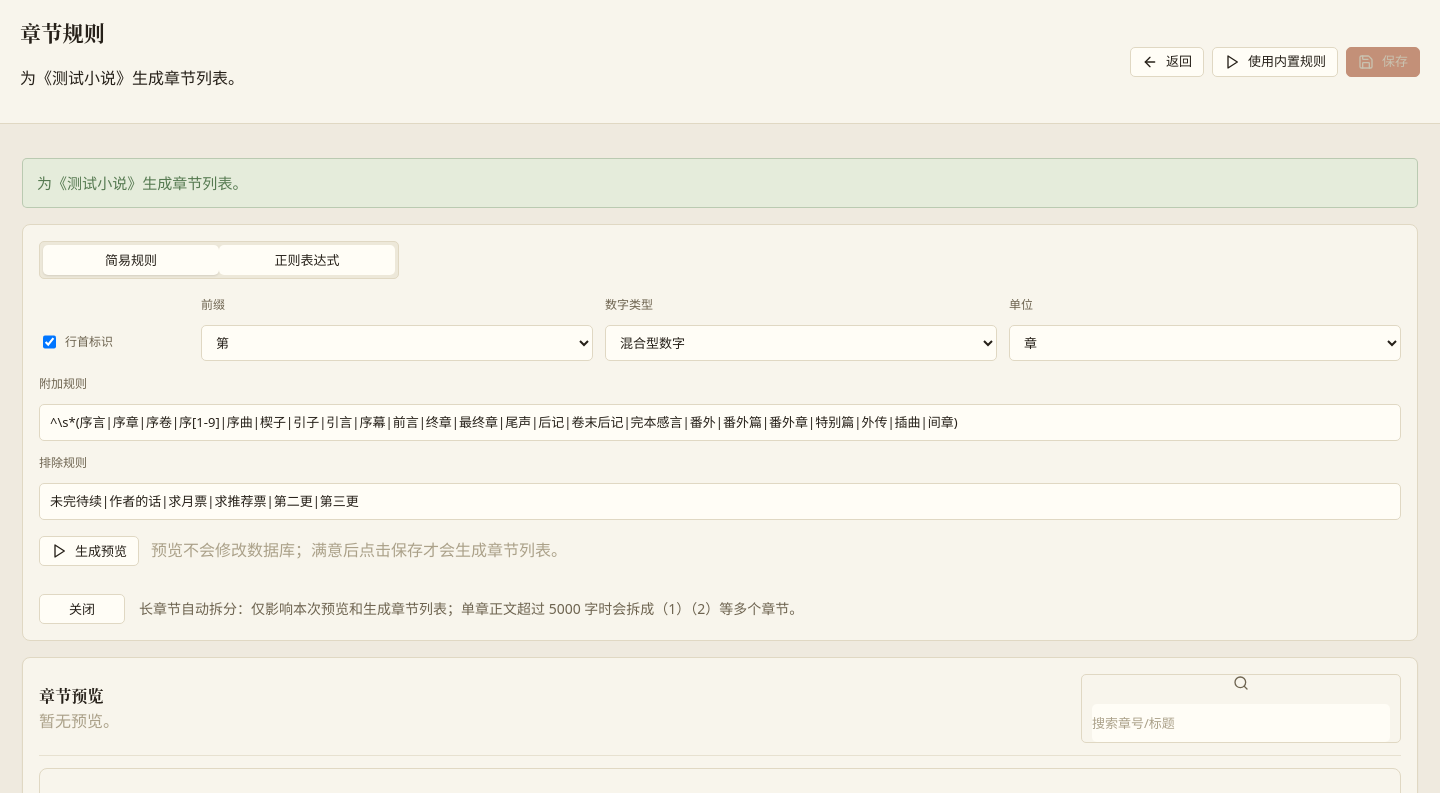
Scenario: ChapterRulesPage › enables long splitting from the prompt and regenerates preview
Click the button "生成预览" at (89, 551), box [39,536,139,566]
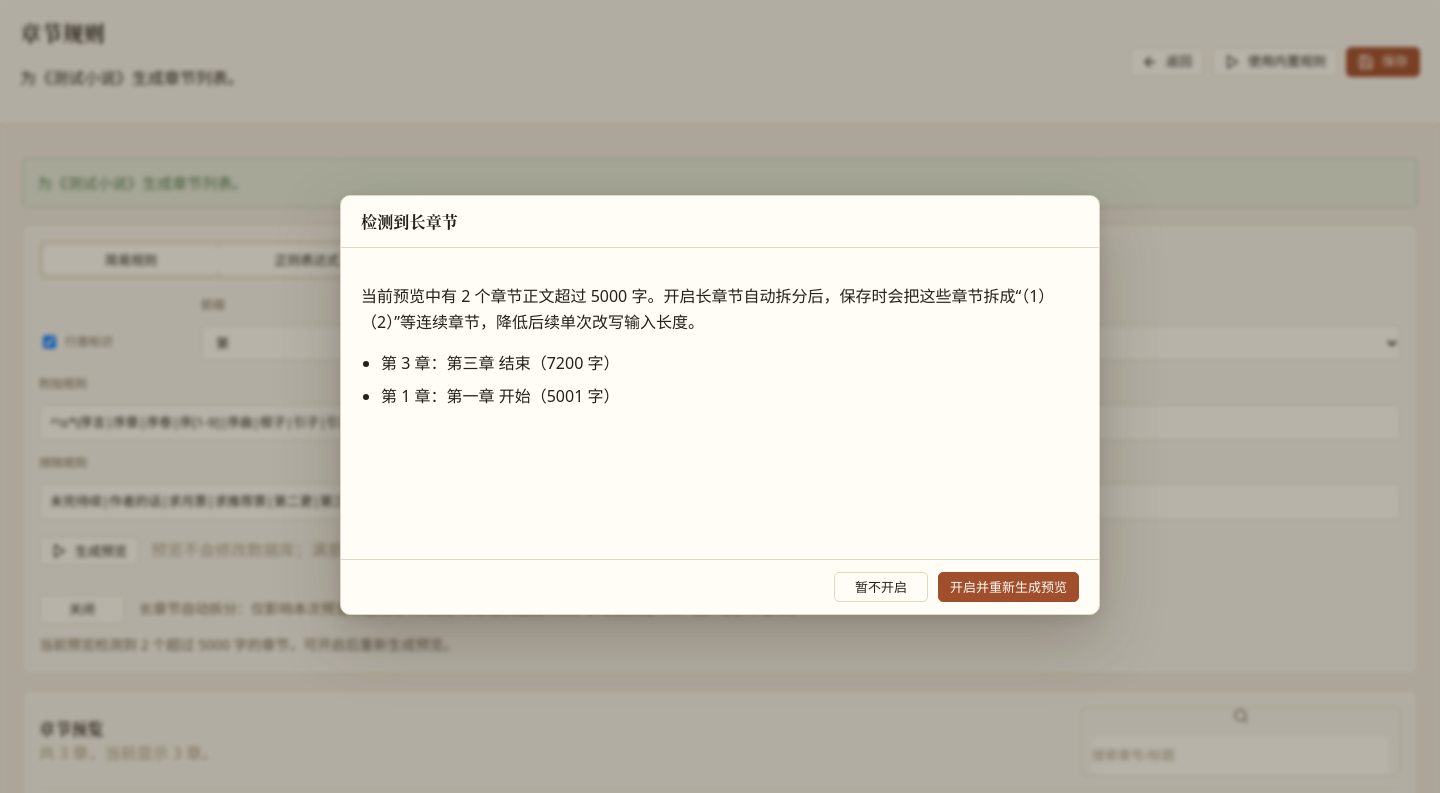
Result: the dialog "检测到长章节" is shown at [340,195,1100,615]
Click the button "开启并重新生成预览" at (1008, 587), box [938,572,1079,602]
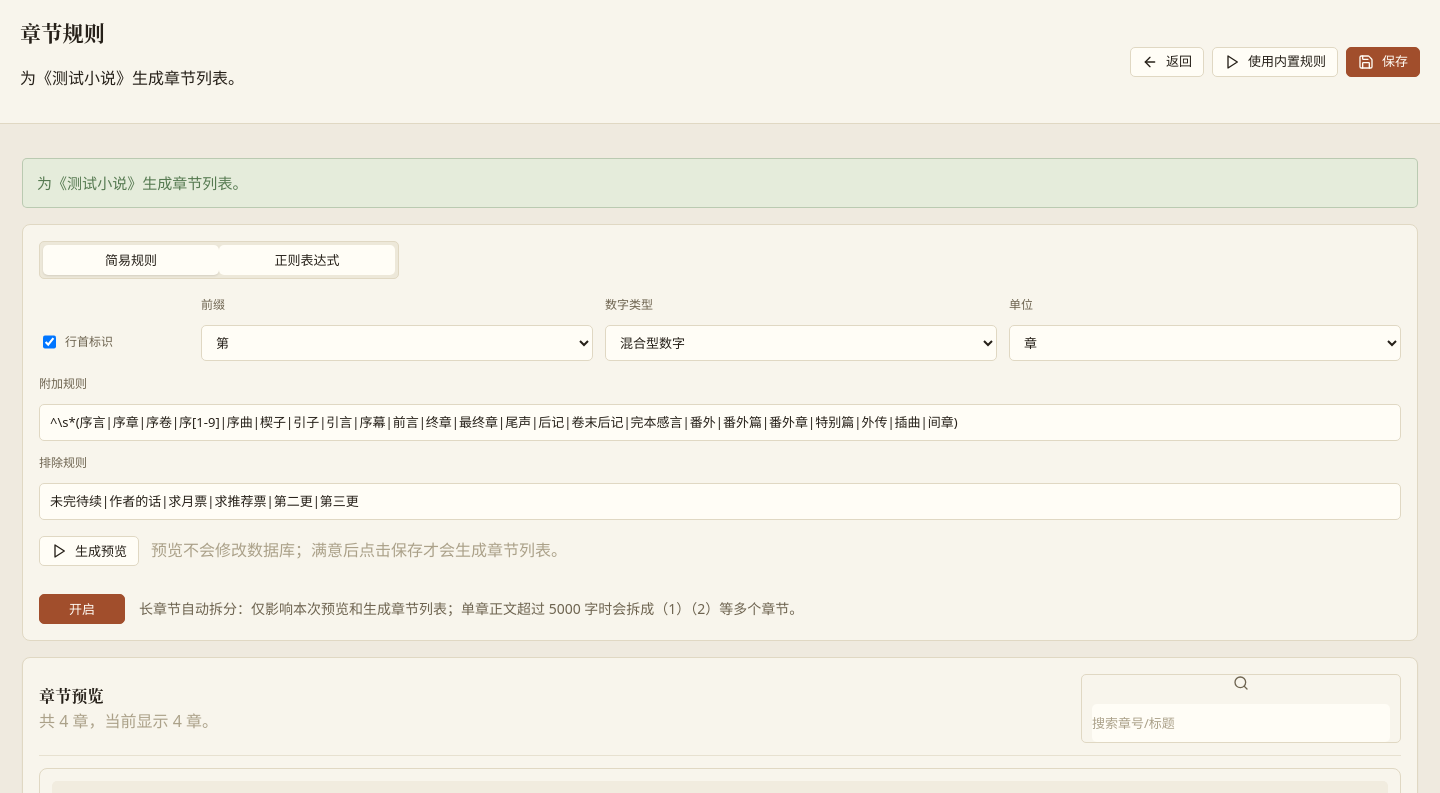
Result: the heading "检测到长章节" is gone
